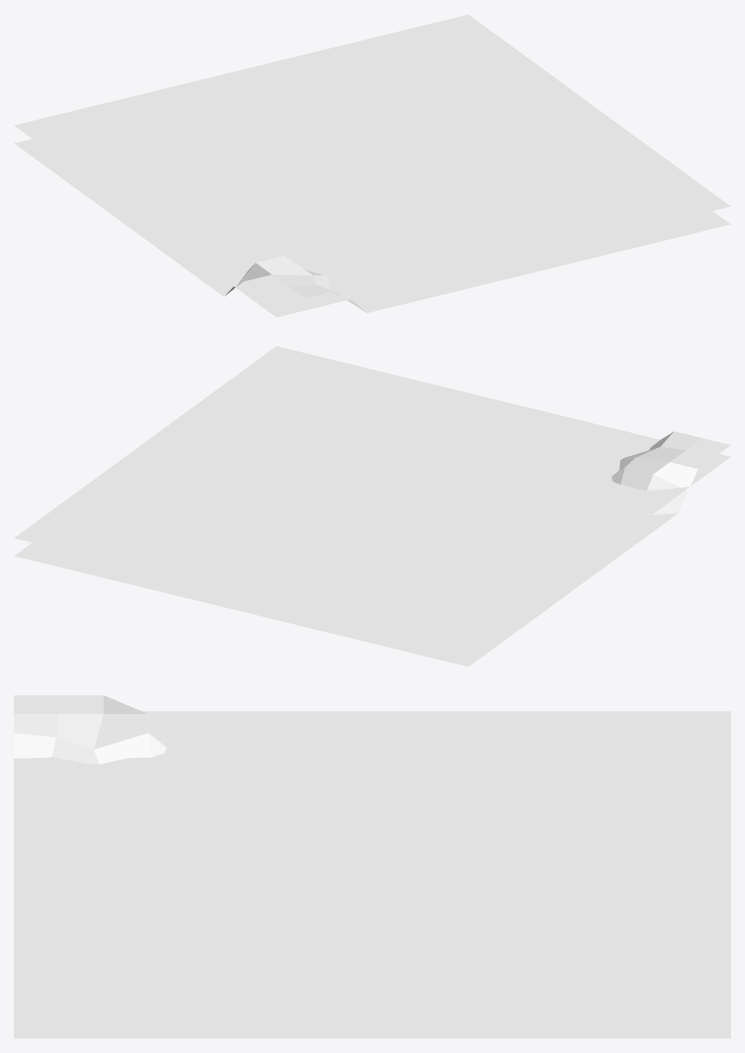
Rendered from ground.lake.shore.corner.glb.
3 views of the same model, one above another, from view 1: azimuth 30°, elevation 25°; view 2: azimuth 150°, elevation 25°; view 3: azimuth 270°, elevation 25° (orthographic). The views are drawn at different scales.
Visible parts, largest first — view 1: ground.lake.shore.water.corner, ground.lake.shore.corner; view 2: ground.lake.shore.water.corner, ground.lake.shore.corner; view 3: ground.lake.shore.water.corner, ground.lake.shore.corner.
Boxes of the visible parts, box(x1,y1,x2,y2) form: ground.lake.shore.water.corner: box(14, 14, 730, 317); ground.lake.shore.corner: box(14, 139, 730, 312); ground.lake.shore.water.corner: box(14, 346, 730, 648); ground.lake.shore.corner: box(14, 431, 730, 666); ground.lake.shore.water.corner: box(14, 711, 730, 1014); ground.lake.shore.corner: box(14, 695, 730, 1038).
Size of what is drawn, in the model's own units: 4 by 0.25 by 4.
1 material, 1 textured.
